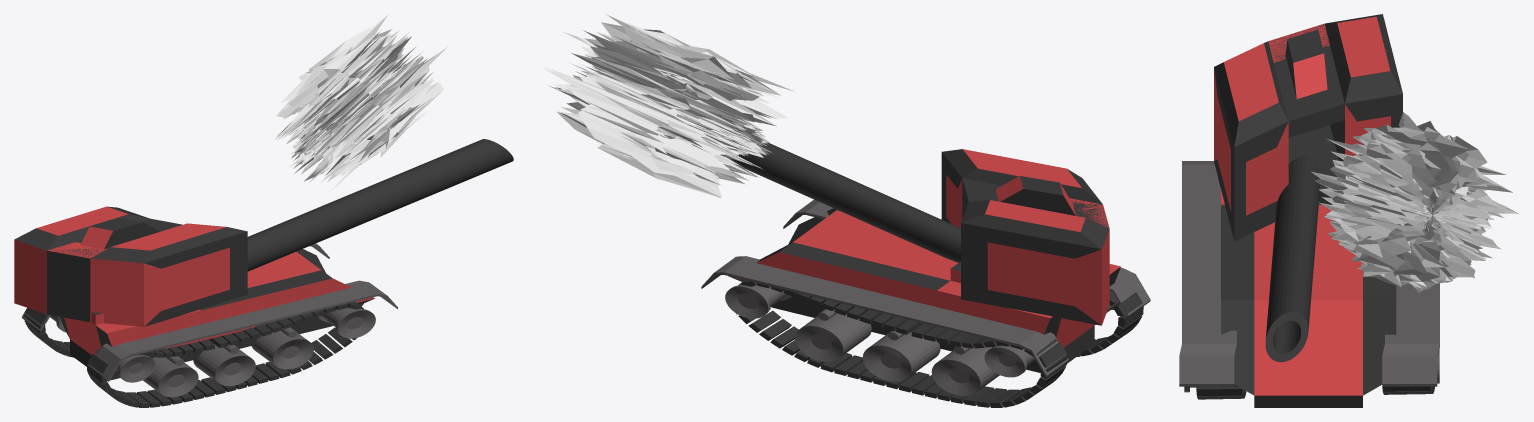
The model's file is red arty.fbx.
3 views of the same model, side by side, from view 1: azimuth 30°, elevation 25°; view 2: azimuth 150°, elevation 25°; view 3: azimuth 270°, elevation 25° (orthographic). The views are drawn at different scales.
Parts seen in each view (by area): view 1: Cube.003, Cylinder.001, Cylinder, Cube, Cube.000, Cube.002, Cylinder.025, Cylinder.011, Cylinder.023, Cylinder.022, Cylinder.021, Cube.001; view 2: Cylinder.001, Cube.003, Cube, Cube.002, Cube.001, Cylinder, Cylinder.000, Cylinder.002, Cylinder.014, Cylinder.003, Cube.000, Cylinder.004; view 3: Cube.003, Cube, Cylinder.001, Cube.002, Cylinder, Cube.000, Cube.001.
Boxes of the visible parts, x1,y1,x2,y2 form: Cube.003: (14,206,247,326); Cylinder.001: (274,14,447,192); Cylinder: (247,139,513,271); Cube: (60,249,375,380); Cube.000: (86,302,363,407); Cube.002: (22,243,397,381); Cylinder.025: (193,344,255,385); Cylinder.011: (251,331,313,369); Cylinder.023: (142,357,198,397); Cylinder.022: (318,307,375,338); Cylinder.021: (116,355,155,382); Cube.001: (24,308,73,357); Cylinder.001: (543,14,794,197); Cube.003: (941,149,1109,325); Cube: (728,208,1120,372); Cube.002: (701,199,1150,377); Cube.001: (736,280,1067,407); Cylinder: (730,142,960,262); Cylinder.000: (862,332,940,381); Cylinder.002: (795,313,871,361); Cylinder.014: (931,347,999,395); Cylinder.003: (725,285,792,318); Cube.000: (1077,291,1143,356); Cylinder.004: (984,345,1035,377); Cube.003: (1214,14,1402,241); Cube: (1221,125,1396,407); Cylinder.001: (1311,112,1518,292); Cube.002: (1179,161,1439,386); Cylinder: (1265,156,1319,362); Cube.000: (1196,384,1246,399); Cube.001: (1382,386,1434,394).
Bounding box in the file's own units: 1277 × 665 × 548.
